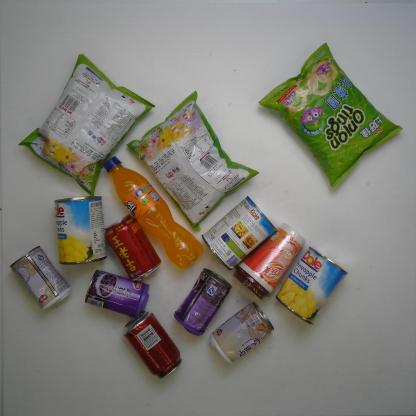Canned Food: (199, 193, 279, 274), (274, 245, 349, 330), (8, 242, 74, 312), (172, 266, 234, 340), (52, 190, 110, 266), (208, 301, 274, 367), (83, 268, 151, 320)
Drink: (97, 152, 207, 272), (119, 310, 184, 380), (103, 209, 162, 281)
Instant Drink: (232, 219, 308, 302)
Puffed Food: (258, 40, 406, 190), (126, 88, 263, 239), (14, 51, 154, 198)
